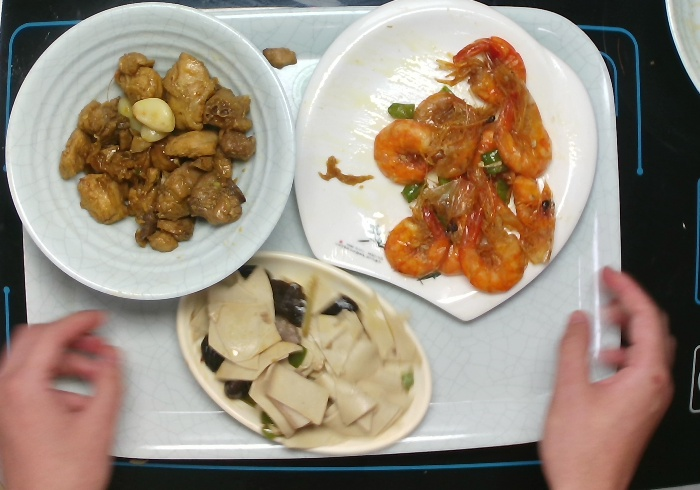JYsf-Mian_Pan: (291, 1, 602, 325)
JYsf-Tuo_Yuan_Wan: (171, 247, 438, 460)
JYsf-Xiao_Tang_Wan: (2, 1, 300, 303)
